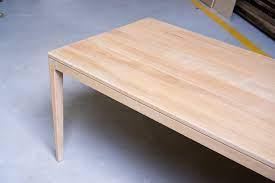desk: (40, 12, 272, 178)
